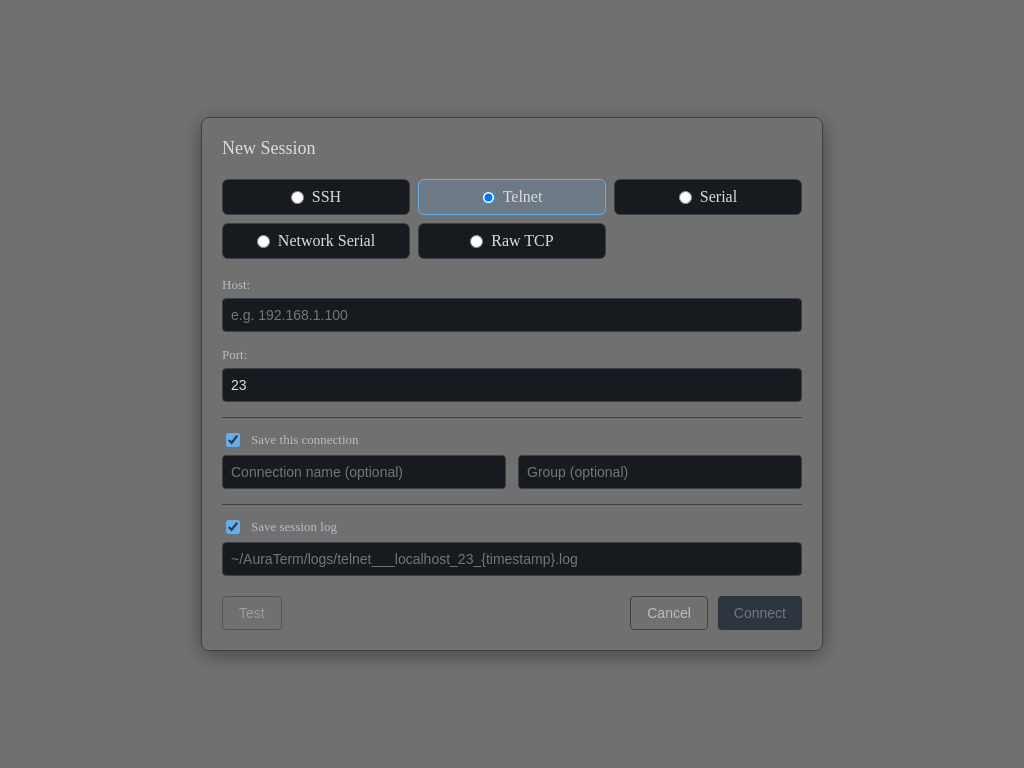
it: ConnectDialog test button › tests telnet with the telnet command
The width and height of the screenshot is (1024, 768).
Expected: the button with class "btn-test" is disabled, [222,596,282,630]
Type "switch-1" into the field with placeholder "e.g. 192.168.1.100" at (512, 315), box [222,298,802,332]
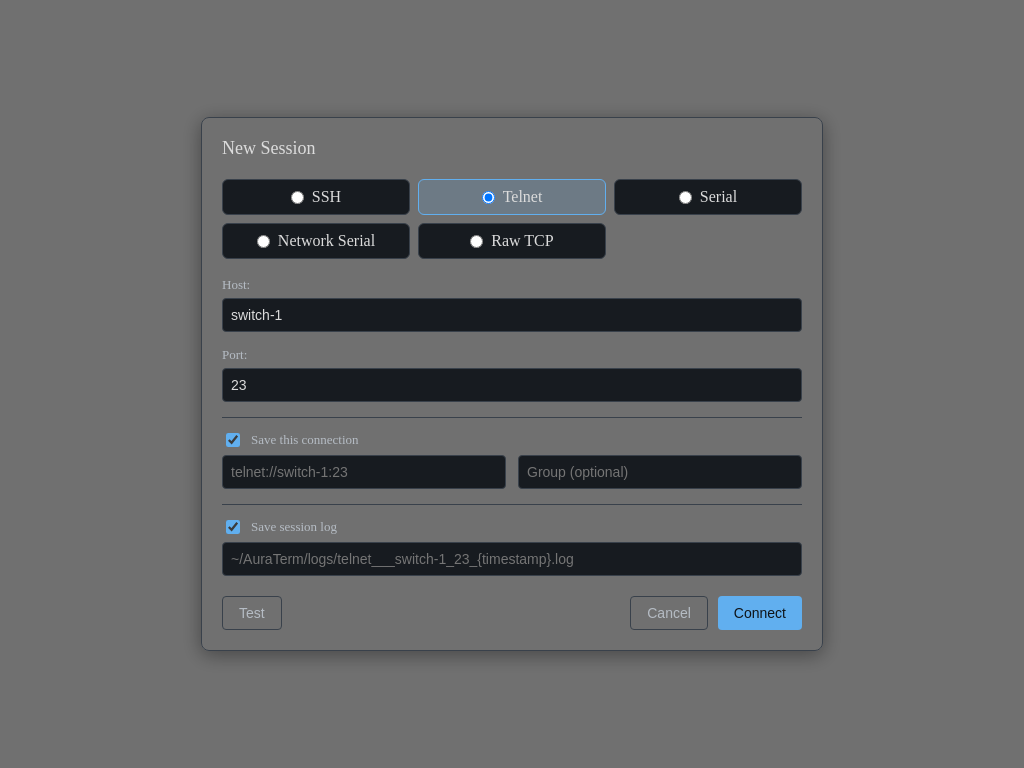
Replace the text in the number field with "2323" at (512, 385), box [222,368,802,402]
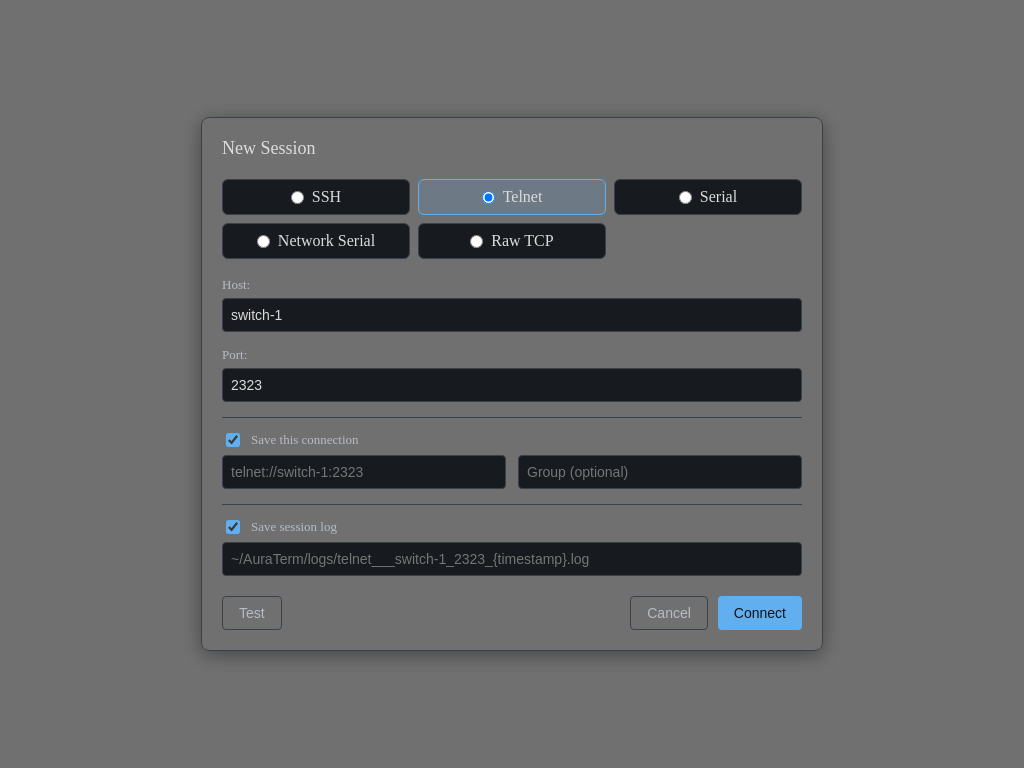
Click the button with class "btn-test" at (252, 613), box [222,596,282,630]
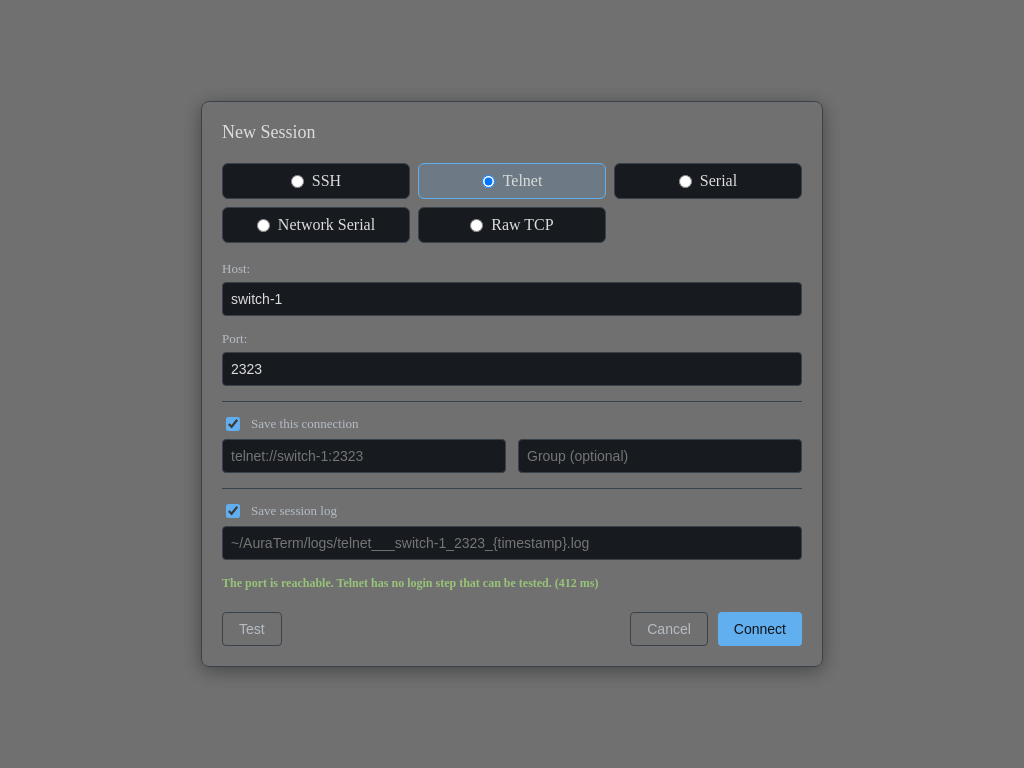
Expected: the text with class "connect-test-title" shows "The port is reachable. Telnet has no login step that can be tested.", [222,576,598,590]
